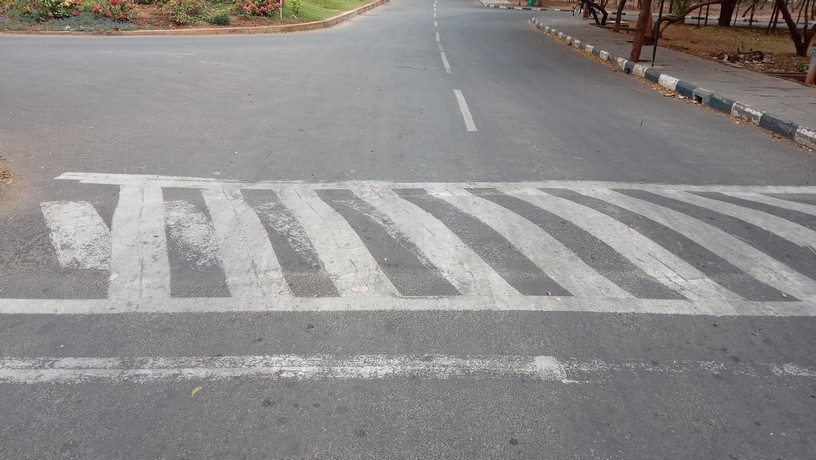bump: (1, 173, 816, 317)
